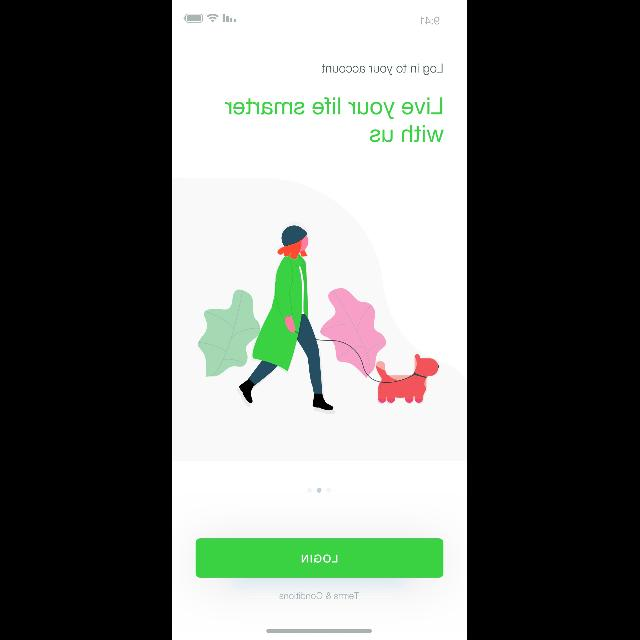image: (198, 226, 440, 414)
pageindicator: (308, 488, 332, 492)
text: (226, 98, 444, 142), (322, 63, 443, 75), (280, 592, 360, 600)
textbutton: (196, 538, 444, 578)
uppertaskbar: (184, 13, 440, 24)
